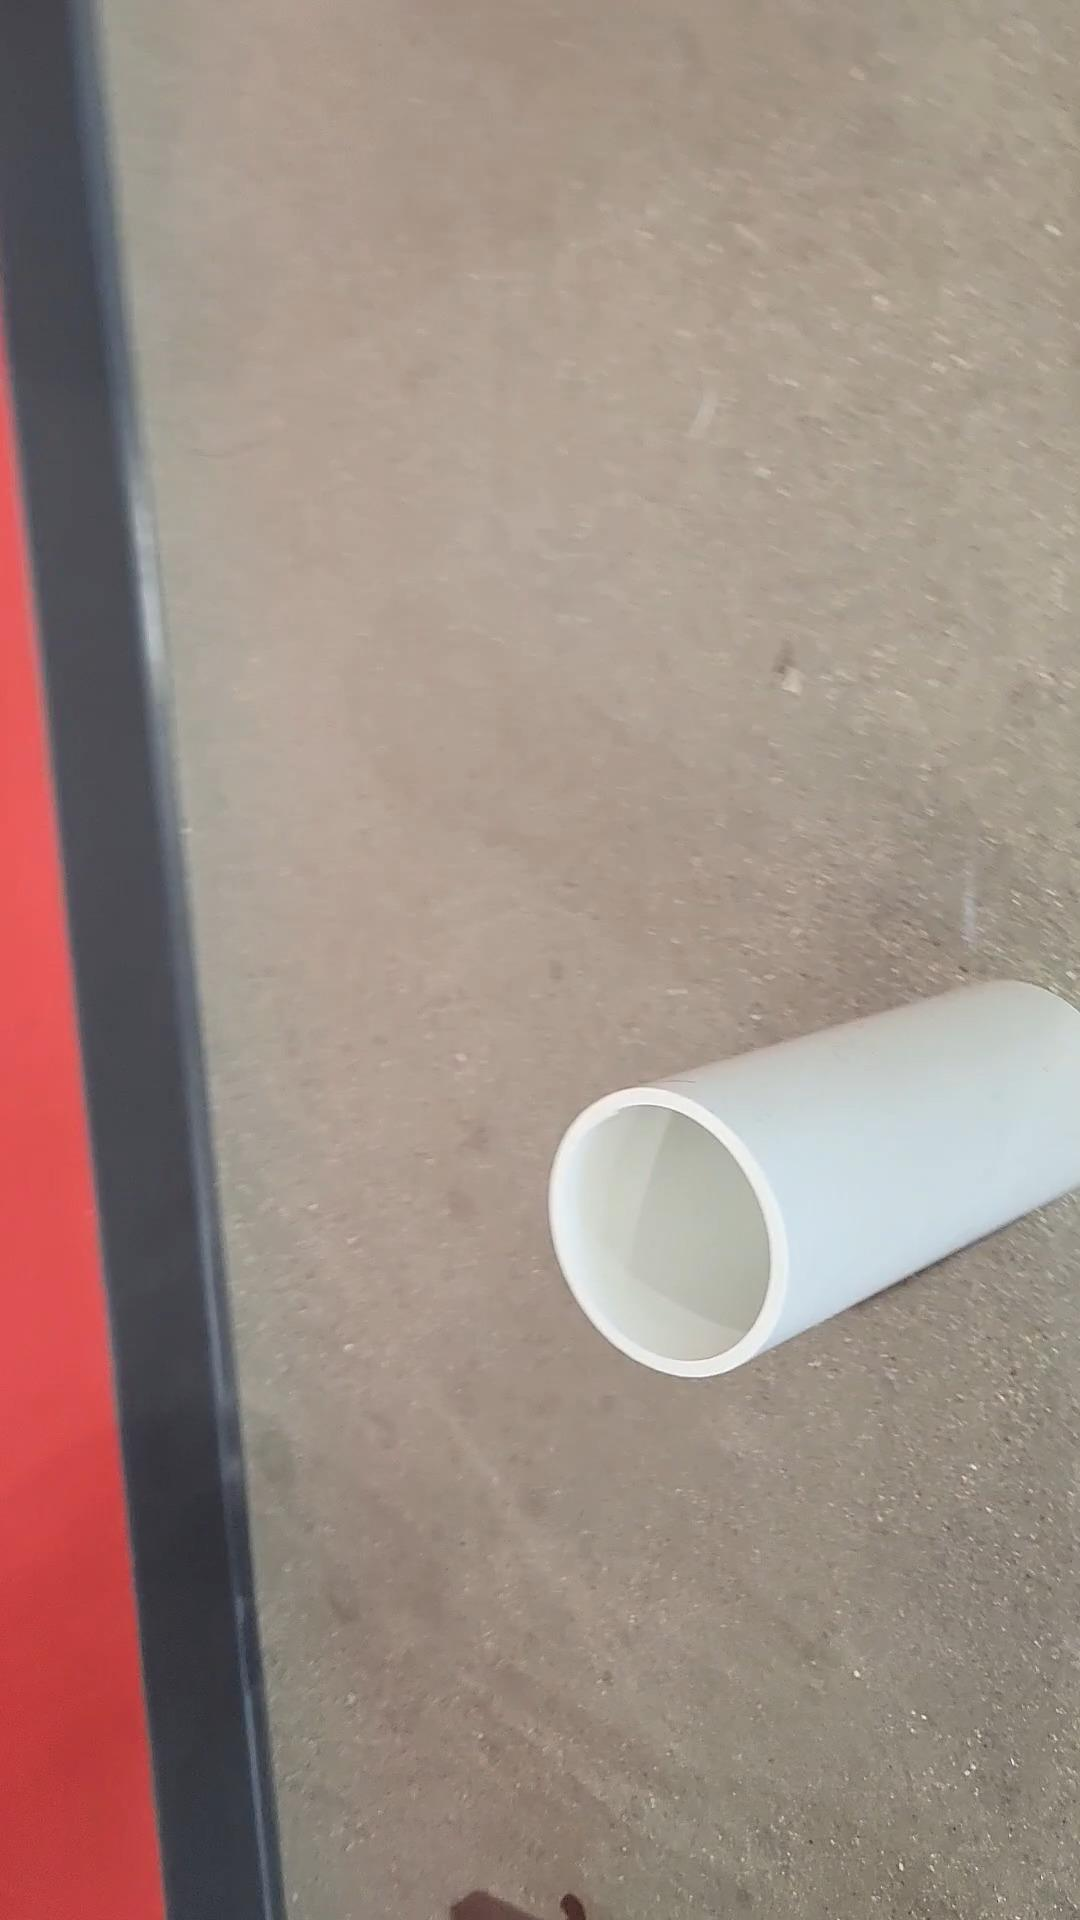coral: (553, 980, 1080, 1375)
